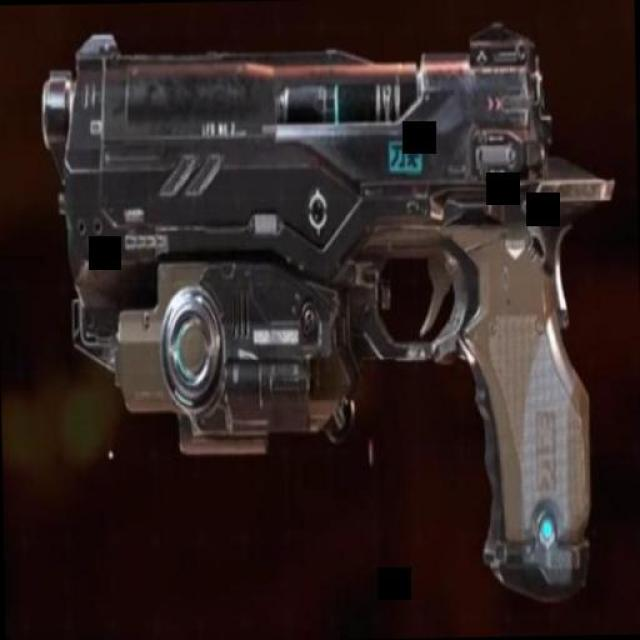gun: (35, 20, 617, 591)
